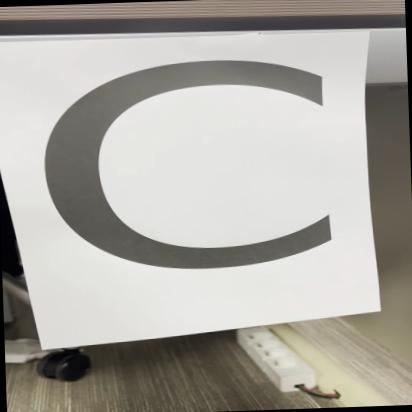seat: (0, 24, 386, 348)
